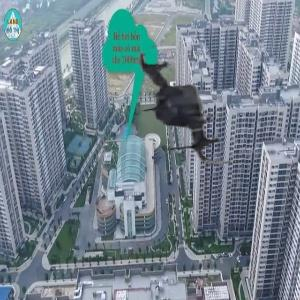drone: (115, 37, 258, 180)
